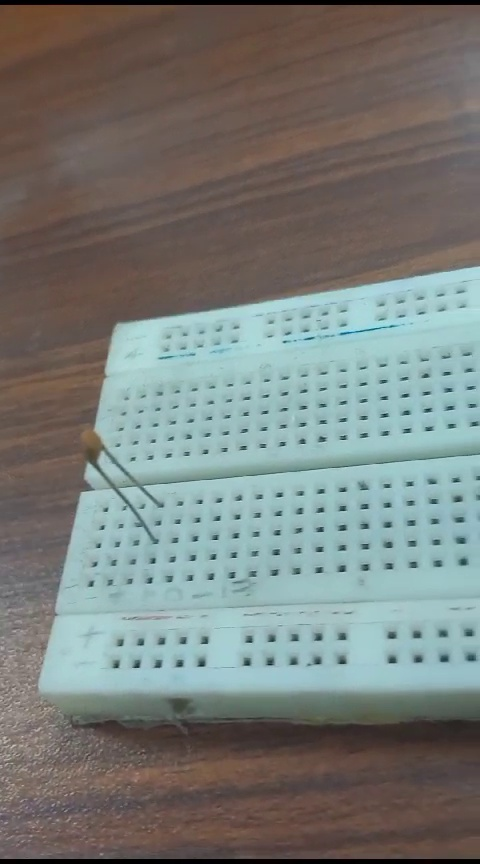ceramic capacitor: (78, 423, 168, 533)
